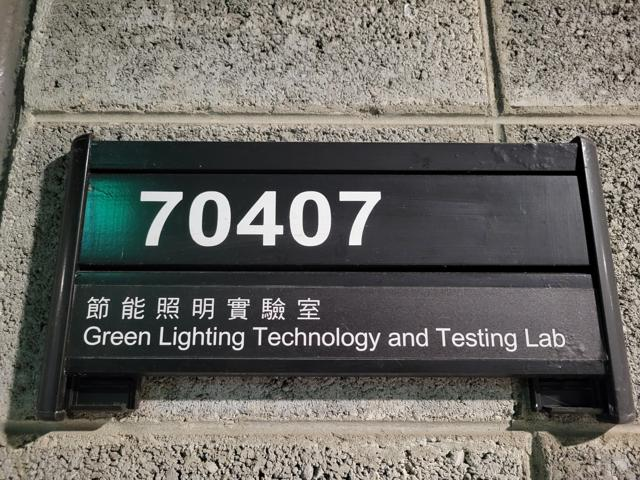doorplate: (36, 125, 636, 432)
